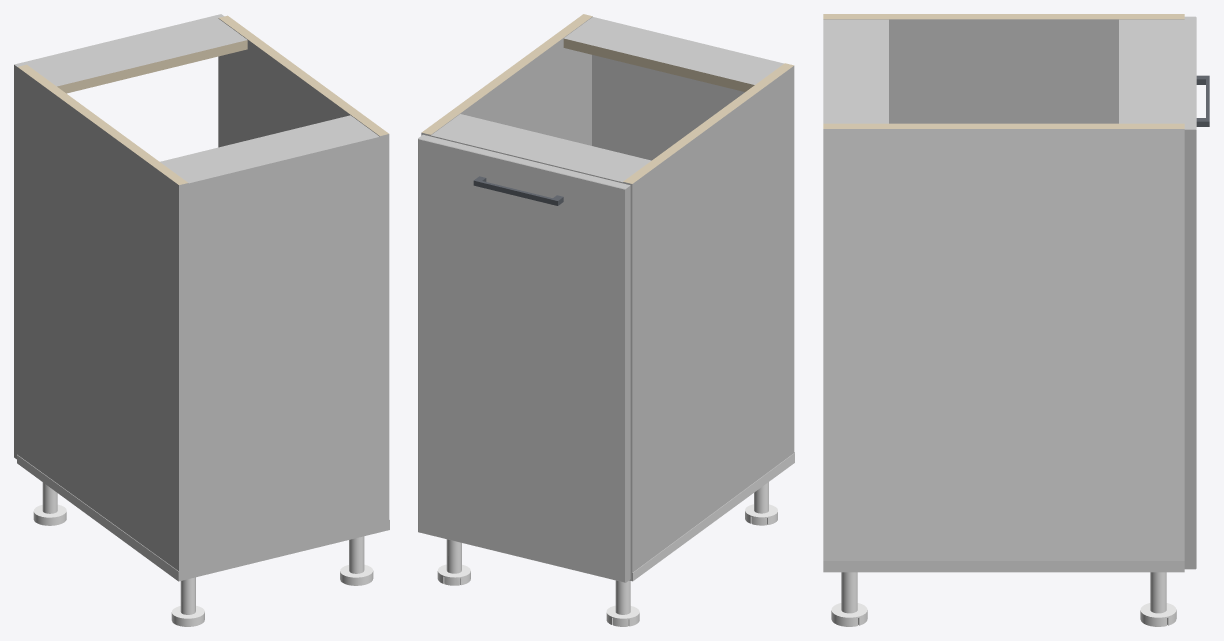
3 renders of one model, left to right at view 1: azimuth 30°, elevation 25°; view 2: azimuth 150°, elevation 25°; view 3: azimuth 270°, elevation 25°, orthographic. The views are drawn at different scales.
Visible parts, largest first — view 1: Group1, Group2; view 2: Group1, Group2; view 3: Group1, Group2.
Boxes of the visible parts, left/top/right/bottom form: Group1: left=14, top=14, right=389, bottom=581; Group2: left=33, top=482, right=373, bottom=626; Group1: left=418, top=14, right=794, bottom=582; Group2: left=437, top=482, right=777, bottom=626; Group1: left=823, top=14, right=1209, bottom=572; Group2: left=831, top=572, right=1176, bottom=626.
Size of the model in its own units: 402 by 815 by 569.
